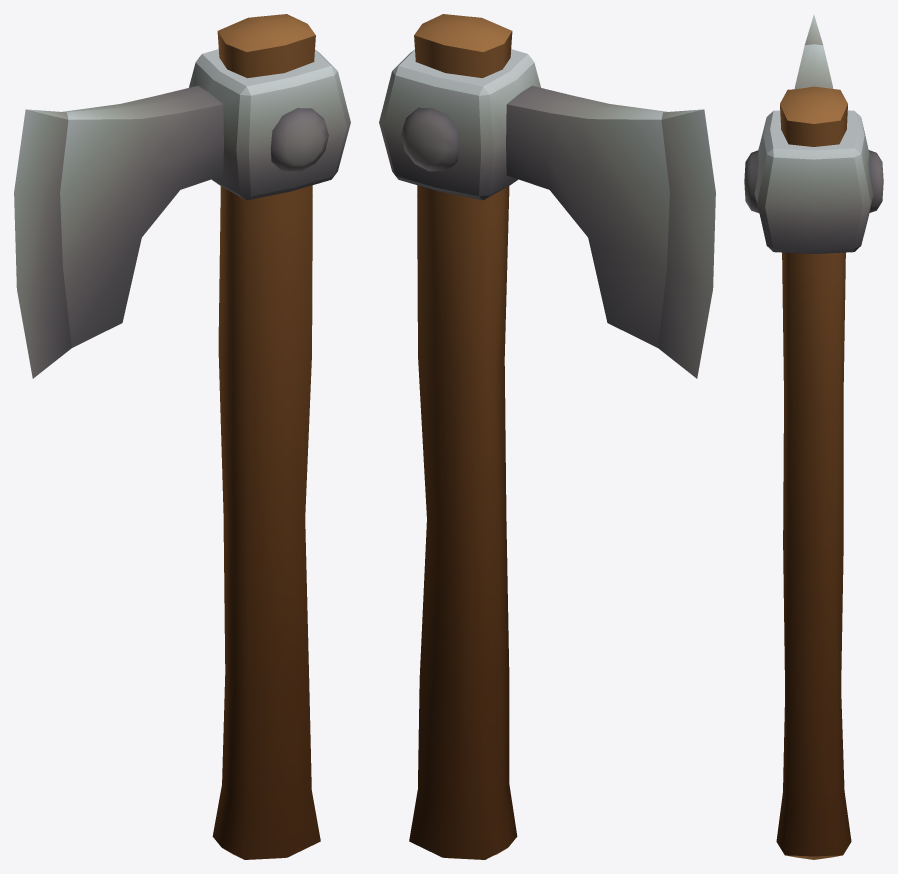
The model's file is Axe_03.glb.
The picture shows the model from 3 angles, left to right: view 1: azimuth 30°, elevation 25°; view 2: azimuth 150°, elevation 25°; view 3: azimuth 270°, elevation 25°; orthographic projection. The views are drawn at different scales.
Visible parts, largest first — view 1: Axe_03; view 2: Axe_03; view 3: Axe_03.
Part boxes in pixels (box(x1,y1,x2,y2)): Axe_03: box(14, 14, 350, 859); Axe_03: box(379, 14, 715, 859); Axe_03: box(744, 15, 883, 859).
Bounding box in the file's own units: 0.412 × 1.03 × 0.1729.
1 material, 1 textured.
